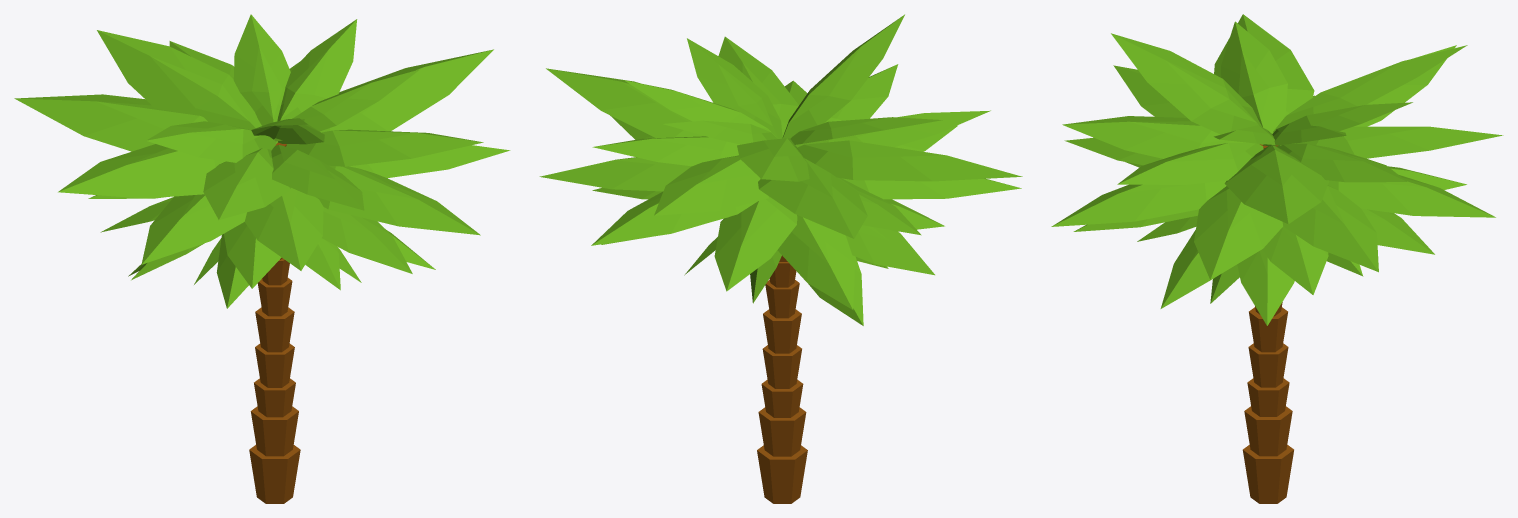
Rendered from Palm.fbx.
3 renders of one model, left to right at view 1: azimuth 30°, elevation 25°; view 2: azimuth 150°, elevation 25°; view 3: azimuth 270°, elevation 25°, orthographic.
Visible parts, largest first — view 1: Leaf.018, Leaf.031, Leaf.028, Leaf.007, Leaf.003, Leaf.004, Leaf.044, Leaf.017, Leaf.006, Leaf.040, Leaf.039, Leaf.030 (+16 smaller); view 2: Leaf.031, Leaf.026, Leaf.019, Leaf.028, Leaf.034, Leaf.041, Leaf.007, Leaf.005, Leaf.015, Leaf.020, Leaf.016, Leaf.039 (+19 smaller); view 3: Leaf.041, Leaf.007, Leaf.008, Leaf.003, Leaf.015, Leaf.043, Leaf.030, Leaf.020, Leaf.019, Leaf.004, Leaf.018, Leaf.016 (+20 smaller).
Boxes of the visible parts, bbox=[...] form: Leaf.018: bbox=[97, 30, 261, 129]; Leaf.031: bbox=[58, 144, 225, 198]; Leaf.028: bbox=[14, 94, 207, 151]; Leaf.007: bbox=[320, 49, 493, 132]; Leaf.003: bbox=[317, 165, 480, 235]; Leaf.004: bbox=[286, 129, 483, 166]; Leaf.044: bbox=[244, 188, 323, 270]; Leaf.017: bbox=[233, 14, 290, 143]; Leaf.006: bbox=[274, 19, 357, 141]; Leaf.040: bbox=[203, 148, 290, 219]; Leaf.039: bbox=[141, 194, 246, 264]; Leaf.030: bbox=[146, 121, 276, 162]; Leaf.031: bbox=[797, 140, 1022, 181]; Leaf.026: bbox=[714, 197, 797, 291]; Leaf.019: bbox=[654, 155, 769, 215]; Leaf.028: bbox=[758, 158, 867, 238]; Leaf.034: bbox=[777, 215, 854, 309]; Leaf.041: bbox=[782, 14, 904, 138]; Leaf.007: bbox=[546, 68, 704, 138]; Leaf.005: bbox=[687, 38, 782, 138]; Leaf.015: bbox=[539, 157, 691, 191]; Leaf.020: bbox=[591, 191, 757, 245]; Leaf.016: bbox=[592, 136, 739, 166]; Leaf.039: bbox=[842, 178, 1021, 199]; Leaf.041: bbox=[1111, 33, 1263, 144]; Leaf.007: bbox=[1224, 146, 1329, 224]; Leaf.008: bbox=[1194, 186, 1282, 279]; Leaf.003: bbox=[1051, 180, 1226, 226]; Leaf.015: bbox=[1282, 185, 1378, 272]; Leaf.043: bbox=[1062, 116, 1248, 158]; Leaf.030: bbox=[1221, 21, 1287, 133]; Leaf.020: bbox=[1328, 175, 1495, 217]; Leaf.019: bbox=[1292, 126, 1503, 158]; Leaf.004: bbox=[1117, 143, 1263, 184]; Leaf.018: bbox=[1273, 45, 1467, 132]; Leaf.016: bbox=[1276, 143, 1406, 182].
Bounding box in the file's own units: 470 × 431 × 400.
